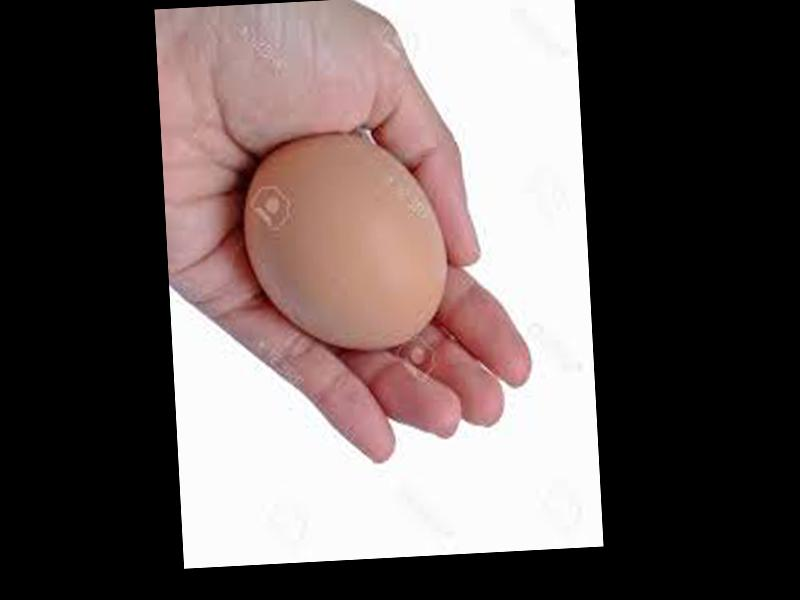Eggs: (241, 126, 451, 356)
